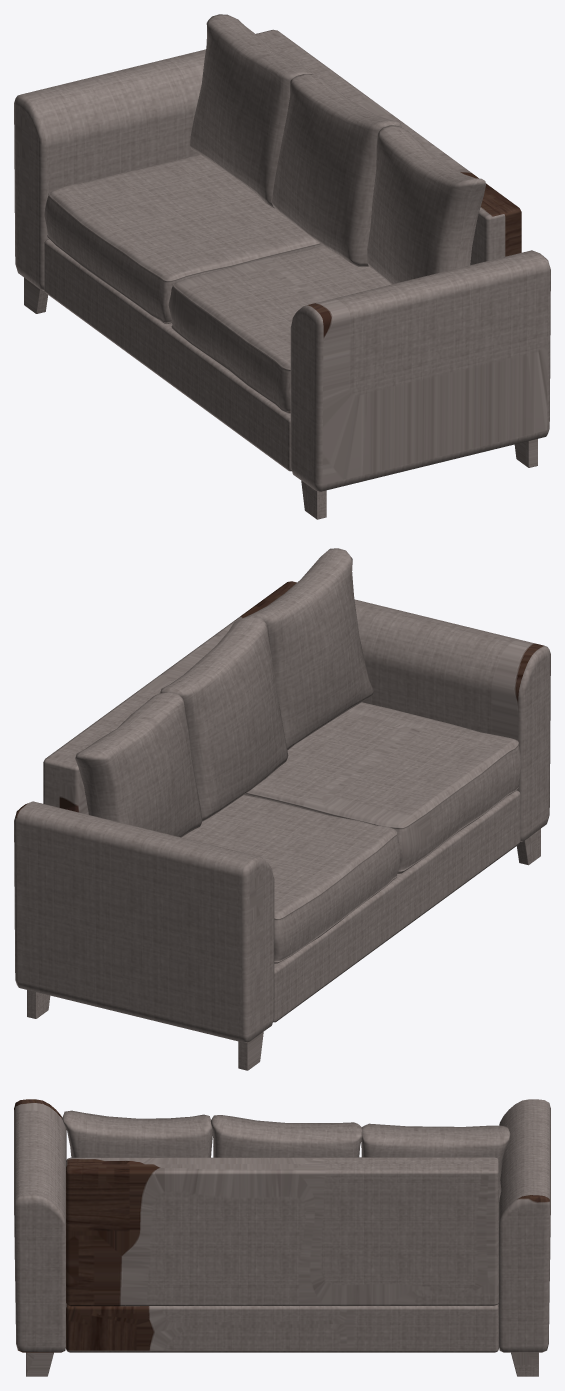
Rendered from sofa_grey_fabric-v1 (1).glb.
The picture shows the model from 3 angles, top to bottom: view 1: azimuth 30°, elevation 25°; view 2: azimuth 150°, elevation 25°; view 3: azimuth 270°, elevation 25°; orthographic projection. The views are drawn at different scales.
Visible parts, largest first — view 1: dessous; view 2: dessous; view 3: dessous.
Part boxes in pixels (left/top/right/bottom): dessous: left=14, top=14, right=550, bottom=519; dessous: left=14, top=548, right=550, bottom=1070; dessous: left=14, top=1099, right=550, bottom=1376.
Size of the model in its own units: 98.25 by 110 by 219.
Materials: 1 (1 with a texture image).
